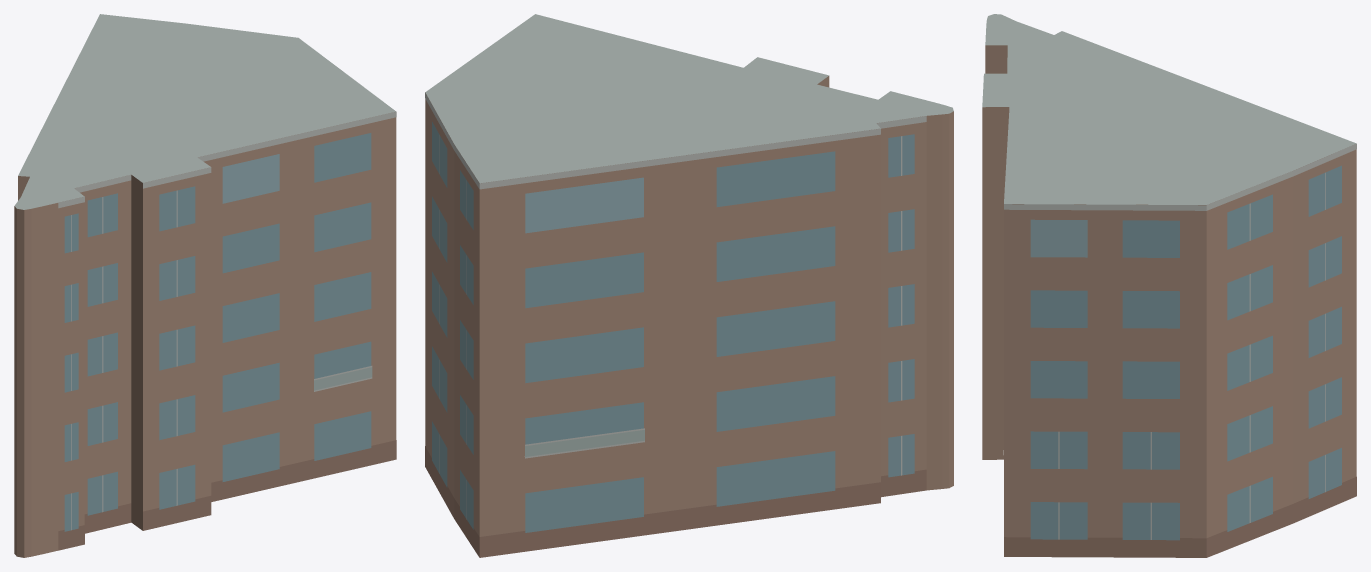
File: survey-upis-32552156.glb
The picture shows the model from 3 angles, left to right: view 1: azimuth 30°, elevation 25°; view 2: azimuth 150°, elevation 25°; view 3: azimuth 270°, elevation 25°; orthographic projection. The views are drawn at different scales.
Parts seen in each view (by area): view 1: survey-upis-32552156.tmp; view 2: survey-upis-32552156.tmp; view 3: survey-upis-32552156.tmp.
Part boxes in pixels (left/top/right/bottom): survey-upis-32552156.tmp: left=14, top=14, right=396, bottom=557; survey-upis-32552156.tmp: left=425, top=14, right=953, bottom=557; survey-upis-32552156.tmp: left=982, top=14, right=1356, bottom=557.
Bounding box in the file's own units: 17.32 × 14.9 × 14.34.
